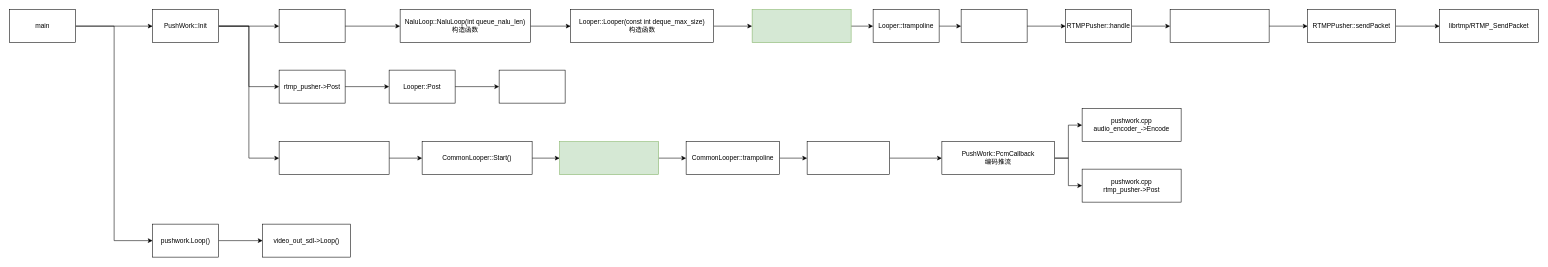
Some shapes in this 1548 by 267 pixel diagram are drawn without their labels. Each missing label, with the centre of its shape:
"audio_capturer_->Start()" belongs at [334,158].
"AudioCapturer::Loop() 采集数据" belongs at [848,158].
"Looper::addmsg" belongs at [532,86].
"Looper::loop" belongs at [994,26].
"new RTMPPusher() 构造函数" belongs at [312,26].
"new std::thread(trampoline, this)" belongs at [801,26].
"new std::thread(trampoline, this);" belongs at [609,158].
"RTMPPusher::SendMetadata" belongs at [1219,26].
